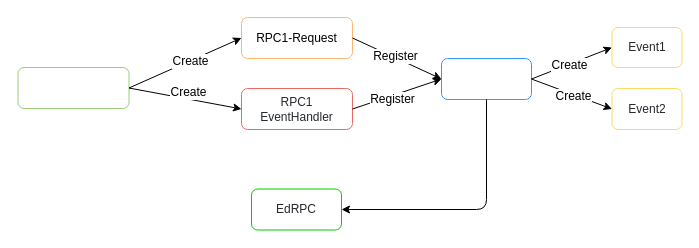
The diagram is 699 pixels wide and 248 high, and some of its shapes have lost their labels. The shapes that lost their labels are listed below. From the top down, each one's box as (x1, y1, x2, y2) in pixels, then its label:
(17, 66, 129, 108): Client
(440, 58, 532, 100): EventMgt
